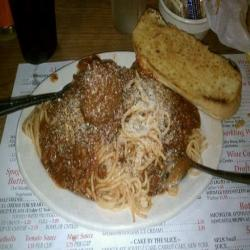bolonese_pasta: (28, 63, 211, 214)
bread: (123, 8, 245, 127)
